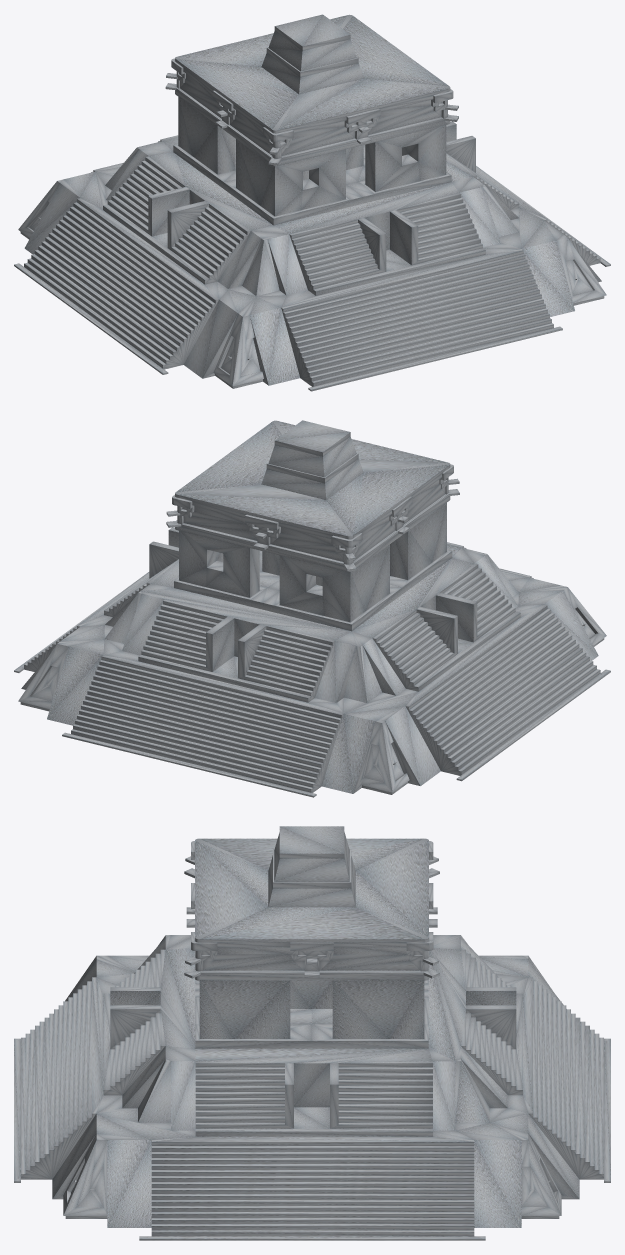
The model's file is dzibilchaltun.glb.
The picture shows the model from 3 angles, top to bottom: view 1: azimuth 30°, elevation 25°; view 2: azimuth 150°, elevation 25°; view 3: azimuth 270°, elevation 25°; orthographic projection. The views are drawn at different scales.
Visible parts, largest first — view 1: Pieza1; view 2: Pieza1; view 3: Pieza1.
Part boxes in pixels (box(x1,y1,x2,y2)): Pieza1: box(14, 14, 610, 391); Pieza1: box(14, 420, 610, 797); Pieza1: box(14, 826, 610, 1240).
Bounding box in the file's own units: 20.59 × 10.35 × 20.45.
Materials: 1 (1 with a texture image).
